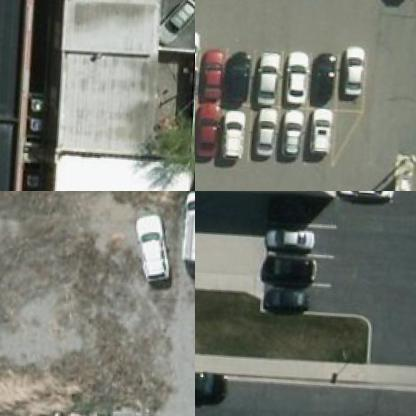car: (120, 209, 174, 286), (260, 286, 316, 322), (153, 0, 194, 48), (260, 257, 314, 289), (216, 115, 248, 166), (276, 113, 308, 164), (302, 114, 334, 165), (341, 53, 373, 104), (306, 59, 338, 110), (250, 56, 282, 107), (248, 112, 280, 162), (280, 58, 312, 108), (220, 58, 252, 108), (197, 53, 228, 104), (195, 111, 222, 163), (262, 225, 314, 252), (195, 365, 220, 415), (337, 191, 394, 210)
van: (178, 191, 194, 264)
